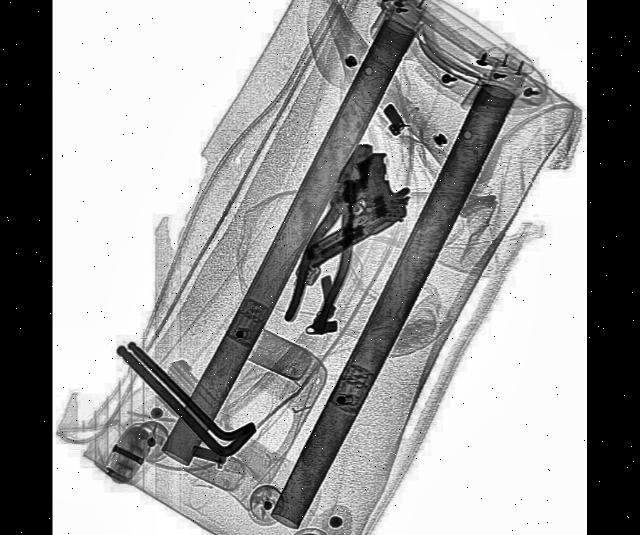Gun: (289, 141, 418, 274)
Pliers: (284, 129, 388, 342)
